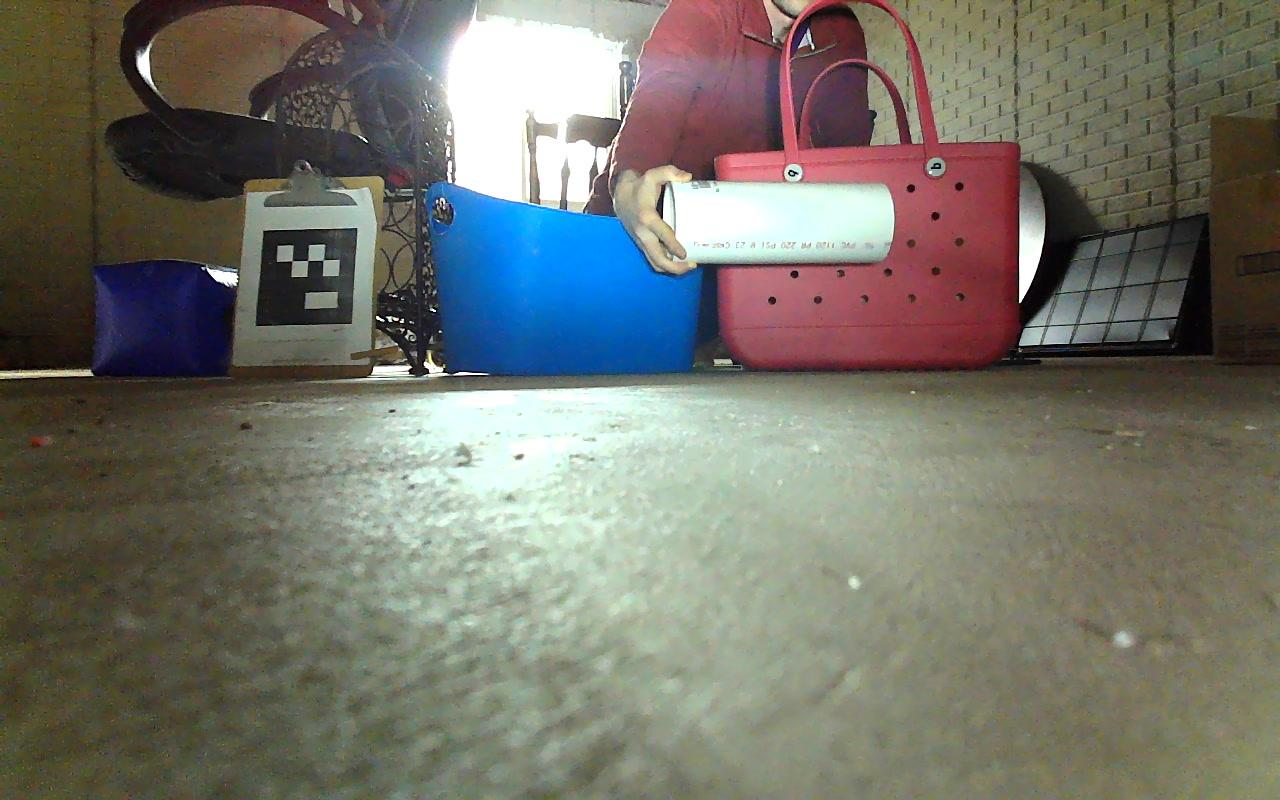coral: (664, 173, 892, 264)
